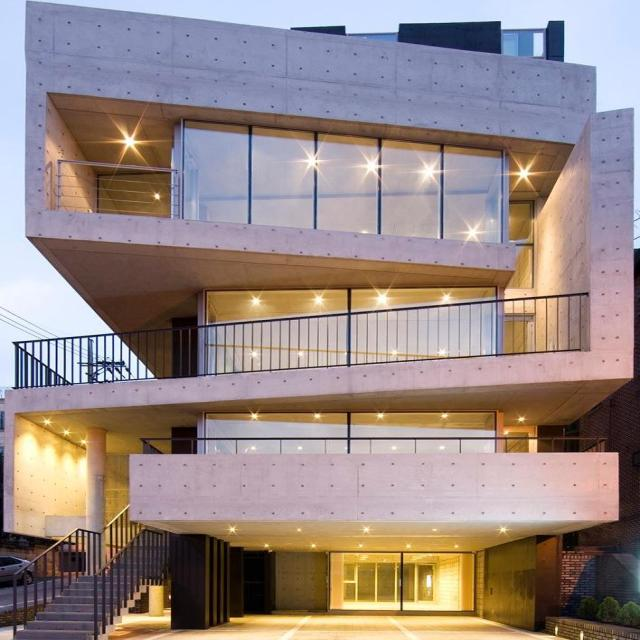door: (326, 551, 482, 613)
railing: (14, 291, 591, 389), (142, 436, 614, 454), (54, 156, 179, 219)
window: (182, 120, 510, 247), (208, 286, 498, 324), (204, 411, 498, 437)
